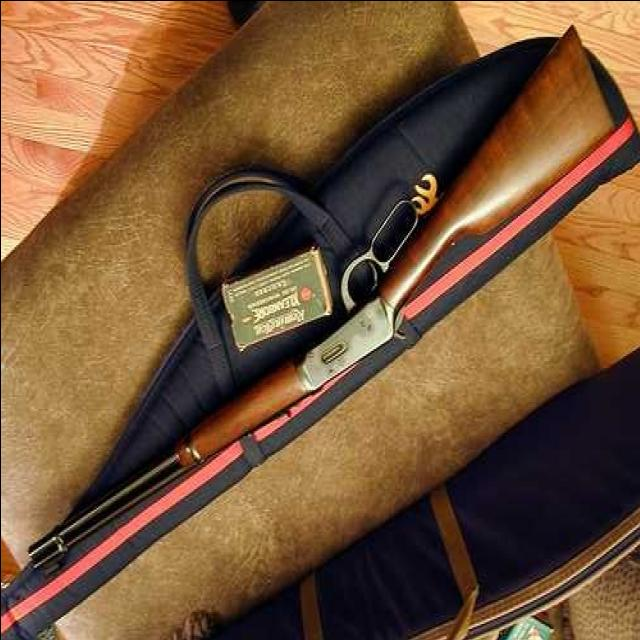heavyweapon: (11, 20, 605, 592)
